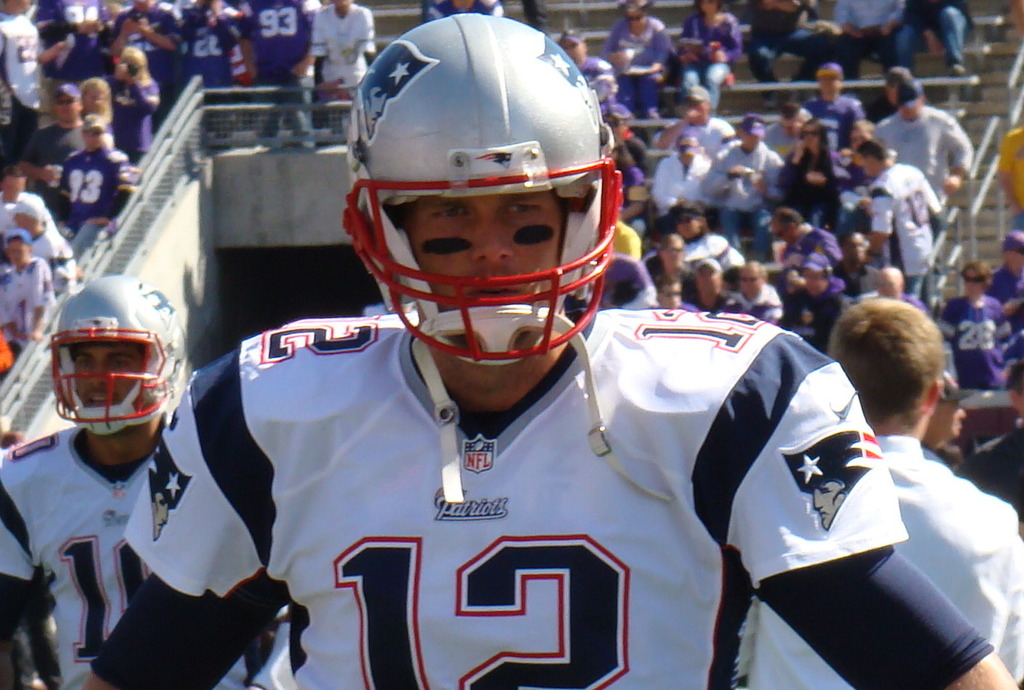Person: (81, 10, 1021, 690), (0, 0, 386, 368), (556, 0, 974, 332), (0, 269, 277, 687), (745, 296, 1024, 688), (955, 258, 1013, 350), (992, 228, 1024, 348)
